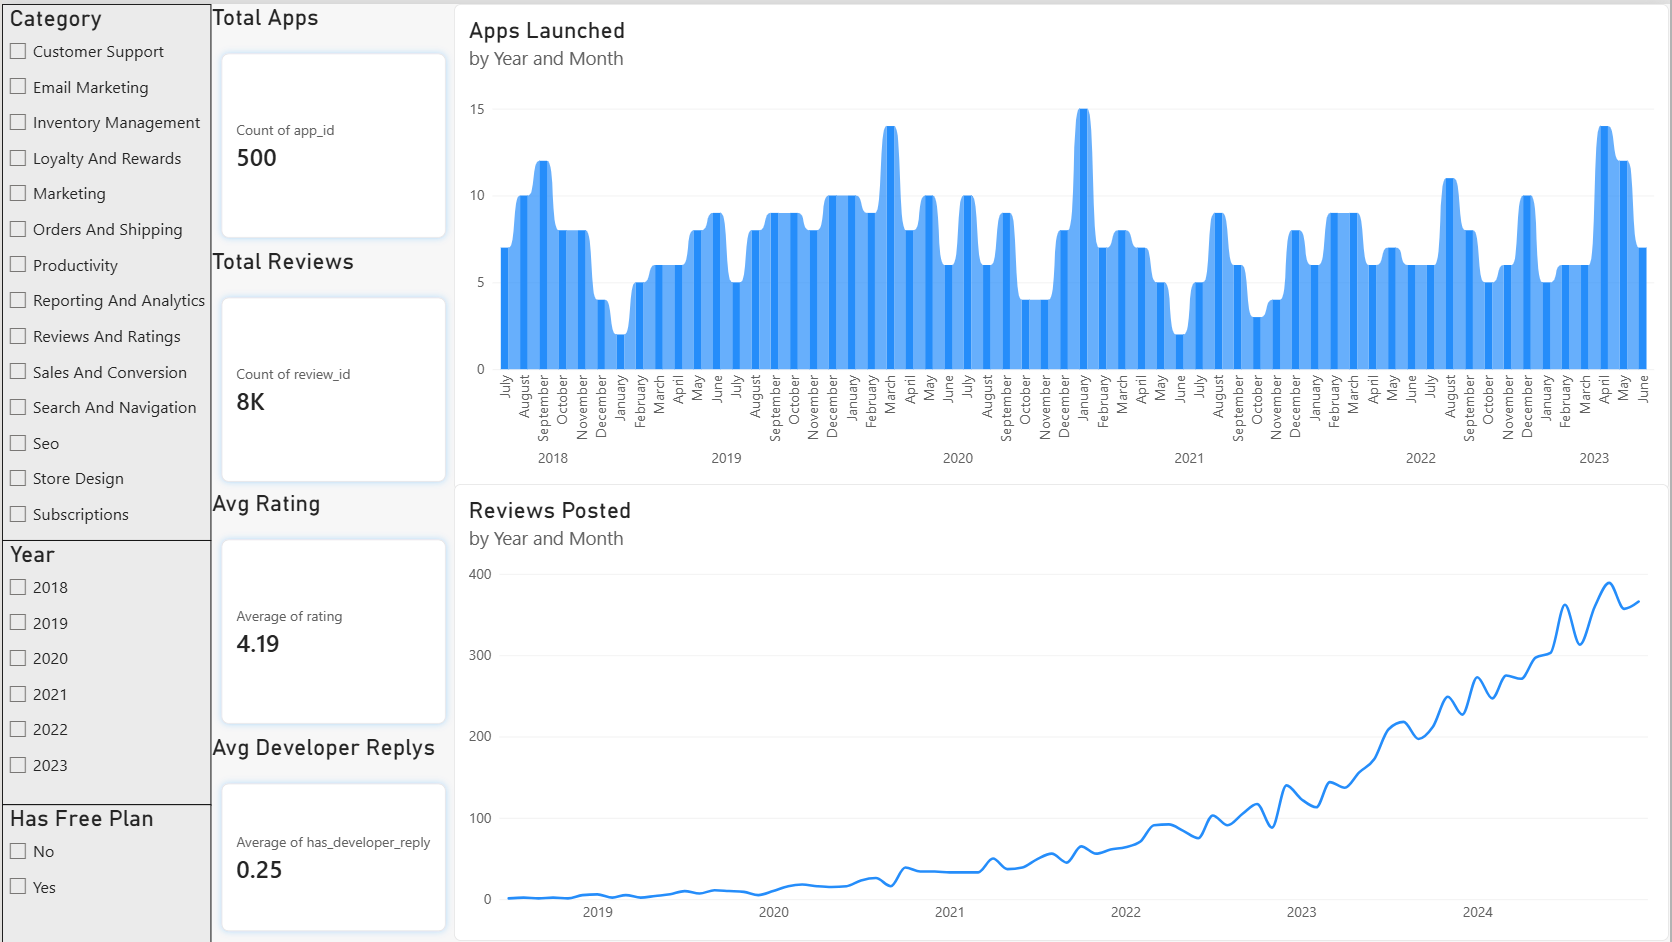

Layout of this report page (visuals, bound fields, positions):
{"tool":"powerbi","page":{"name":"Overview","canvas":[1920,1080],"ordinal":0},"visuals":[{"type":"cardVisual","title":"Total Apps","fields":{"Data":["Count(apps.app_id)"]},"box":[241.1,0,280,280],"z":0},{"type":"cardVisual","title":"Total Reviews","fields":{"Data":["Count(reviews.review_id)"]},"box":[241.1,280.2,280,280],"z":1000},{"type":"cardVisual","title":"Avg Rating","fields":{"Data":["Avg(reviews.rating)"]},"box":[241.1,560.4,280,280],"z":2000},{"type":"cardVisual","title":"Avg Developer Replys","fields":{"Data":["Avg(reviews.has_developer_reply)"]},"box":[241.1,840.6,280.2,238.9],"z":3000},{"type":"slicer","fields":{"Values":["apps.category_name"]},"box":[0,0,241.1,617.8],"z":4000},{"type":"slicer","fields":{"Values":["apps.launch_date.Variation.Date Hierarchy.Year"]},"box":[0,617.8,241.1,305.5],"z":5000},{"type":"slicer","fields":{"Values":["apps.has_free_plan"]},"box":[0,921,241.1,165.4],"z":6000},{"type":"ribbonChart","title":"Apps Launched","fields":{"Category":["Dim_Date.Date.Variation.Date Hierarchy.Year","Dim_Date.Date.Variation.Date Hierarchy.Month"],"Y":["Dim_Date.Apps Launched"]},"box":[521.3,0,1398.7,560.4],"z":7000},{"type":"lineChart","fields":{"Category":["Dim_Date.Date.Variation.Date Hierarchy.Year","Dim_Date.Date.Variation.Date Hierarchy.Month"],"Y":["Dim_Date.Reviews Posted"]},"box":[521.3,553.5,1398.7,525.9],"z":8000}]}

Visuals, with their boxes in screenshot pixels (x1, y1, x2, y2), scaled from the page's 1920x1080 canvas onto the 1672x942 screenshot:
"Total Apps" cardVisual: [210,0,454,244]
"Total Reviews" cardVisual: [210,244,454,489]
"Avg Rating" cardVisual: [210,489,454,733]
"Avg Developer Replys" cardVisual: [210,733,454,941]
slicer - apps.category_name: [0,0,210,539]
slicer - apps.launch_date.Variation.Date Hierarchy.Year: [0,539,210,805]
slicer - apps.has_free_plan: [0,803,210,941]
"Apps Launched" ribbonChart: [454,0,1671,489]
lineChart - Dim_Date.Date.Variation.Date Hierarchy.Year x Dim_Date.Date.Variation.Date Hierarchy.Month: [454,483,1671,941]
